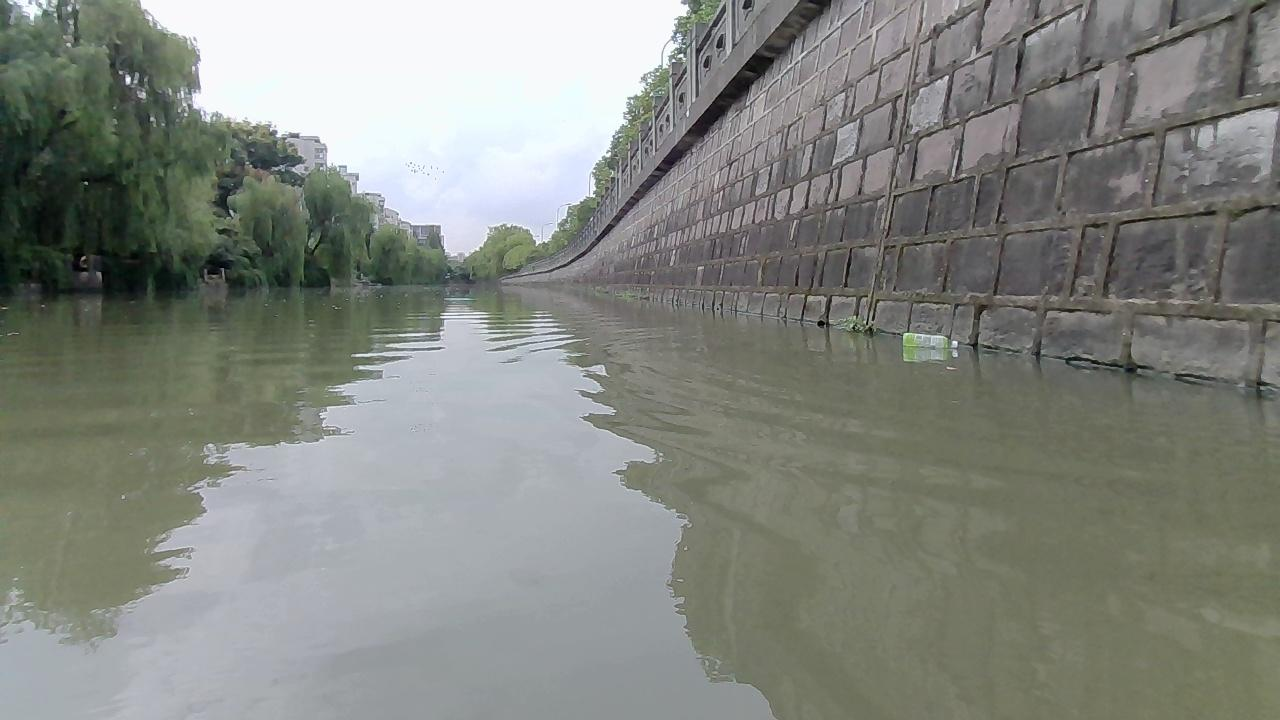bottle: (901, 331, 957, 348)
